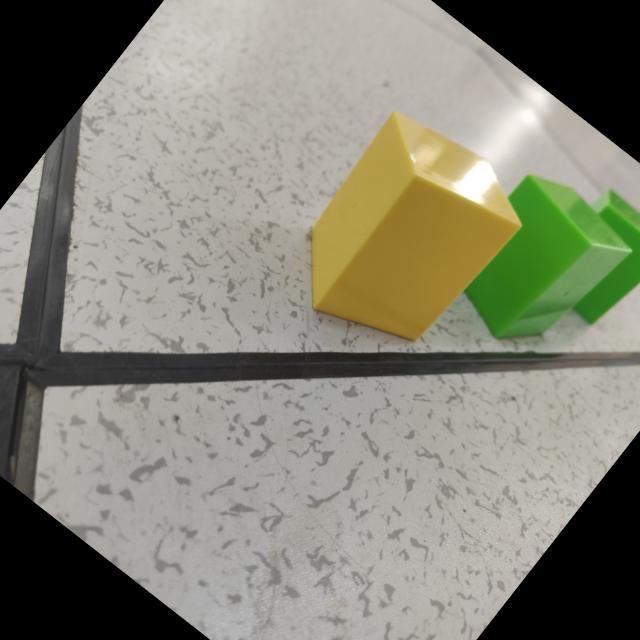green: (463, 173, 634, 339), (573, 184, 640, 330)
yellow: (309, 112, 521, 344)
